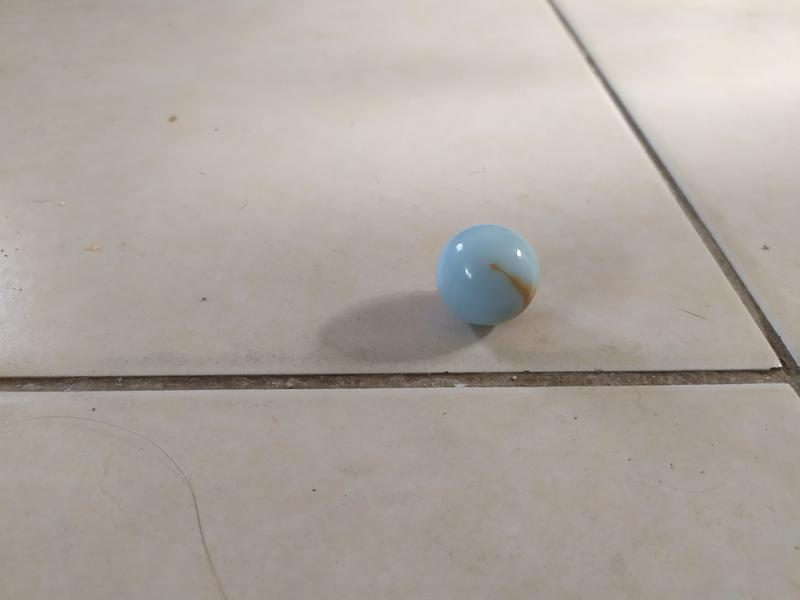Warning: (430, 220, 545, 330)
